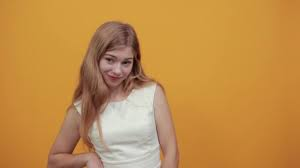white_female: (80, 4, 144, 95)
